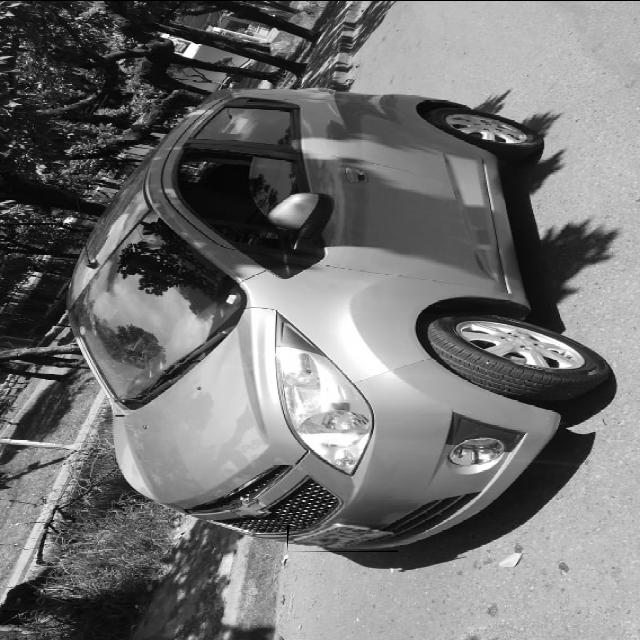plate: (288, 524, 398, 550)
